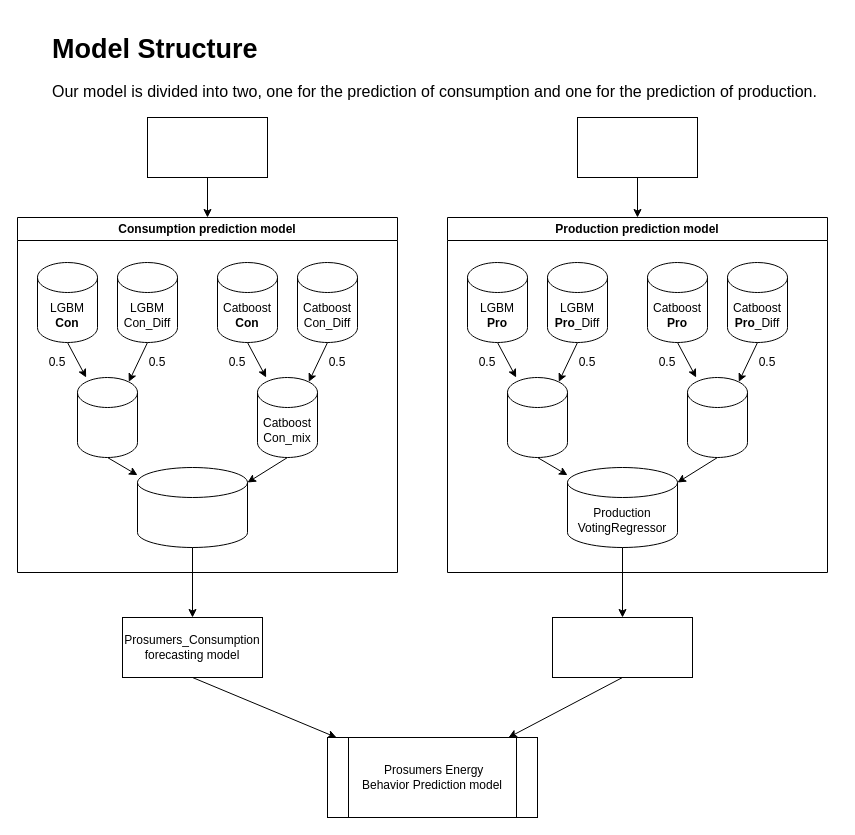
Some shapes in this 855 by 835 pixel diagram are drawn without their labels. Here are the shapes that lost their labels. From the top down, the centre of each, then its label:
At (207,147): "Consumpution data".
At (637,147): "Production data".
At (107,417): "LGBM Con_mix".
At (537,417): "LGBM Pro _mix".
At (717,417): "Catboost Pro _mix".
At (192,507): "Consumption VotingRegressor".
At (622,647): "Prosumers_Production forecasting model".
